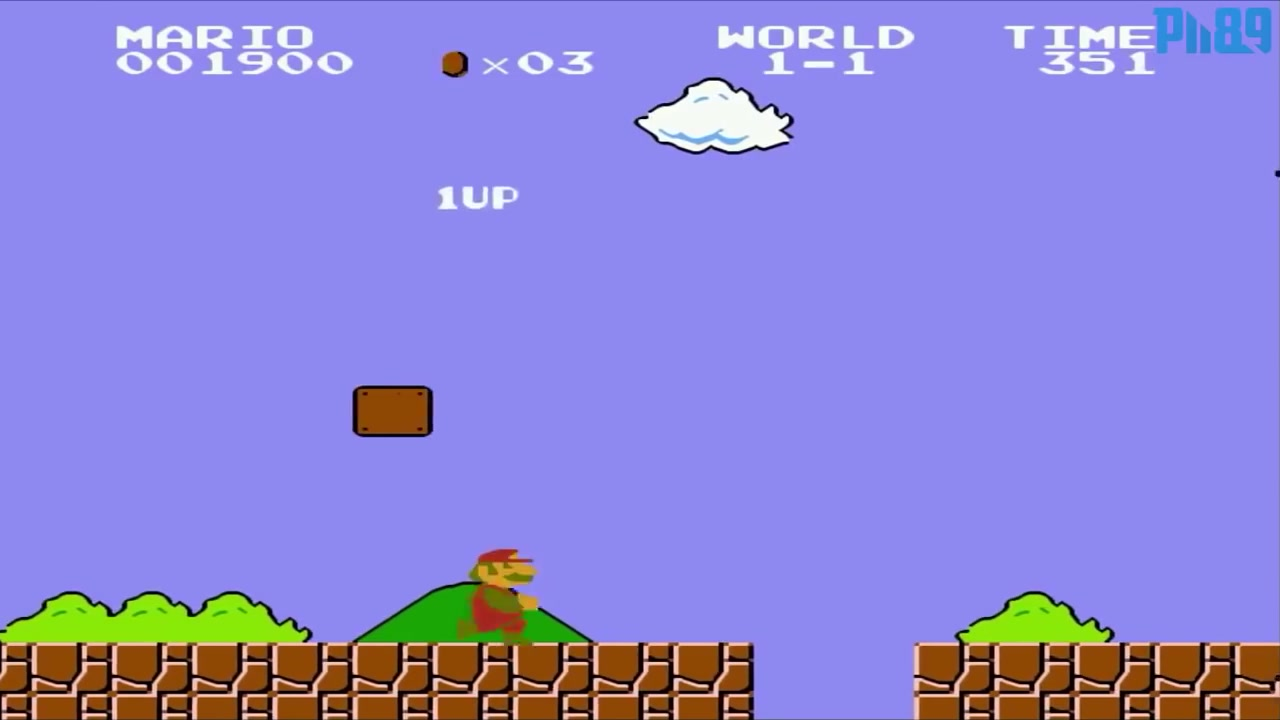mario: (444, 540, 544, 645)
